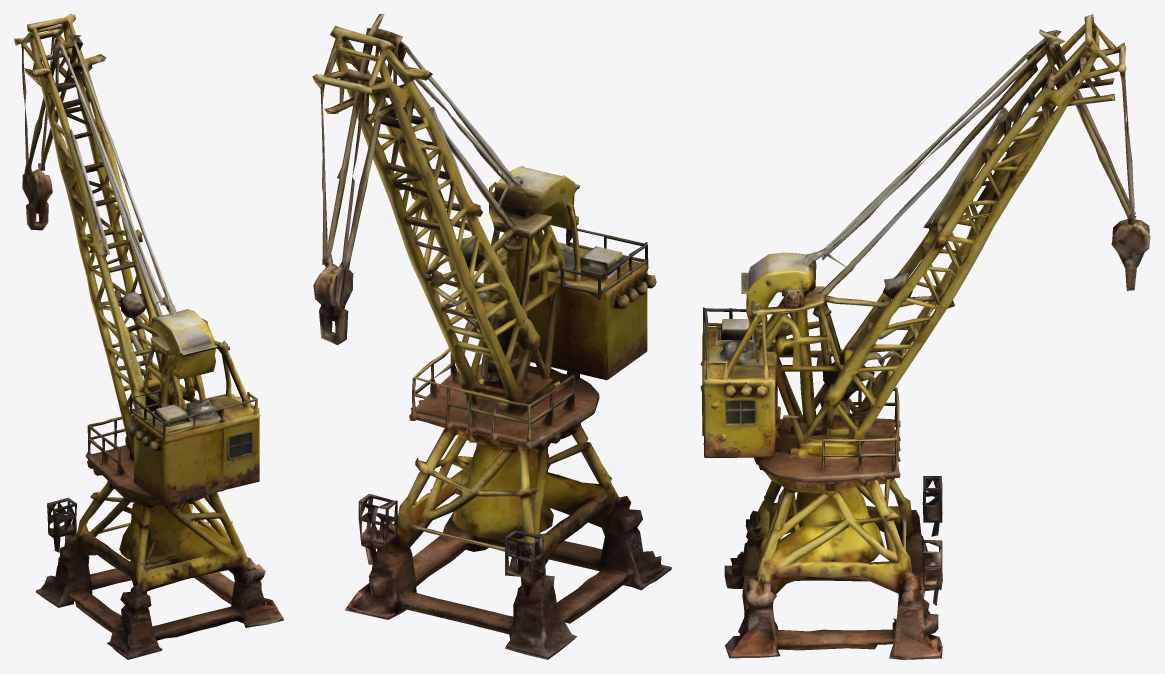
The model's file is pt_crane2.glb.
The picture shows the model from 3 angles, left to right: view 1: azimuth 30°, elevation 25°; view 2: azimuth 150°, elevation 25°; view 3: azimuth 270°, elevation 25°; orthographic projection. The views are drawn at different scales.
Parts seen in each view (by area): view 1: tripo_node_5c292277-59b8-4ed1-912a-11462d7ca6b9; view 2: tripo_node_5c292277-59b8-4ed1-912a-11462d7ca6b9; view 3: tripo_node_5c292277-59b8-4ed1-912a-11462d7ca6b9.
Boxes of the visible parts, box(x1,y1,x2,y2) form: tripo_node_5c292277-59b8-4ed1-912a-11462d7ca6b9: box(14, 14, 283, 659); tripo_node_5c292277-59b8-4ed1-912a-11462d7ca6b9: box(312, 14, 671, 659); tripo_node_5c292277-59b8-4ed1-912a-11462d7ca6b9: box(700, 14, 1150, 659).
Size of the model in its own units: 0.3256 by 0.9793 by 0.6775.
1 material, 1 textured.
